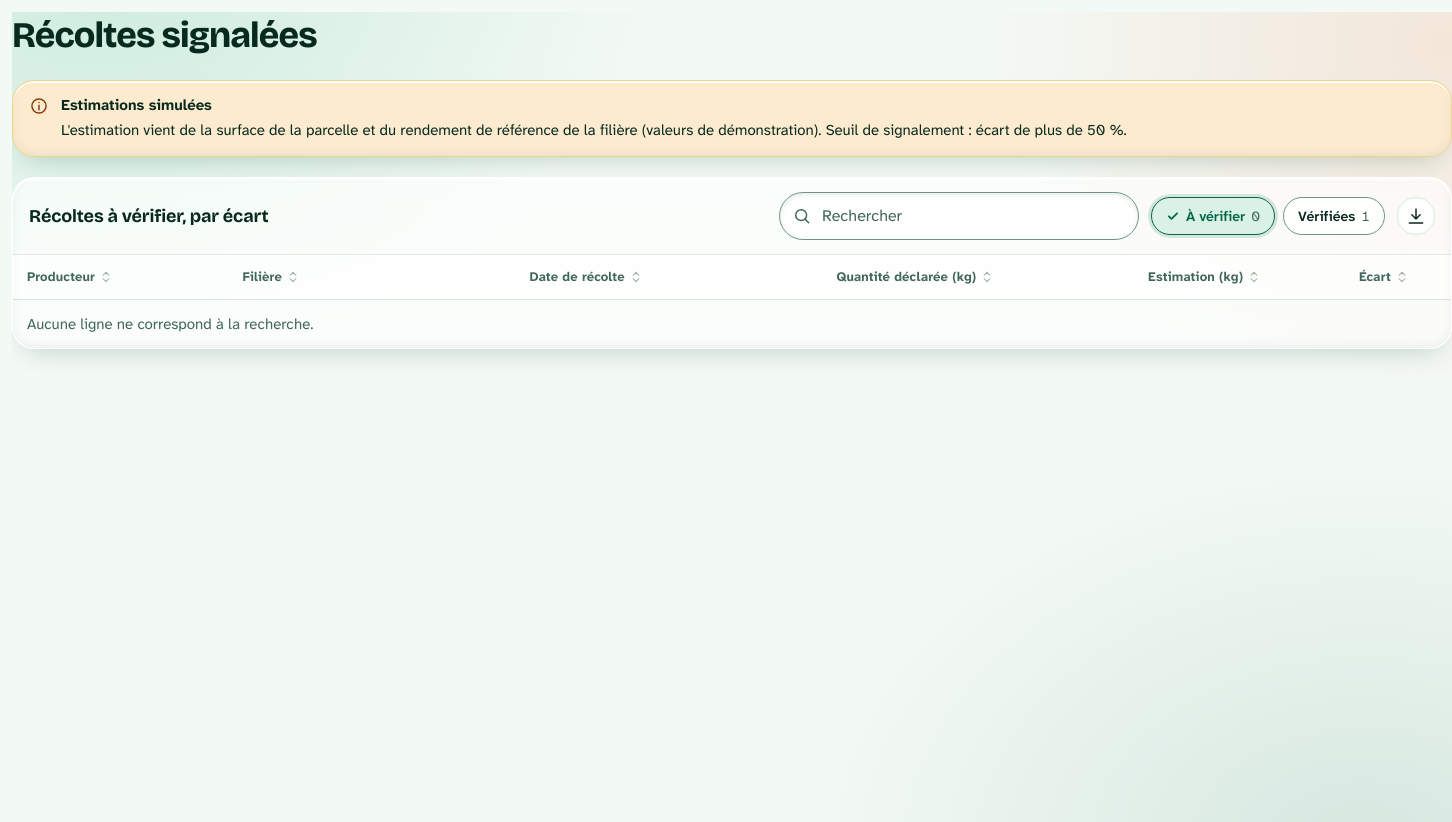
Récoltes signalées › plus rien à vérifier : l'onglet « Vérifiées » reste accessible
What coordinates should you click on to do the following:
click the button "Vérifiées 1"
I would click on:
 (1334, 216)
Its box is [1283,197,1385,235].
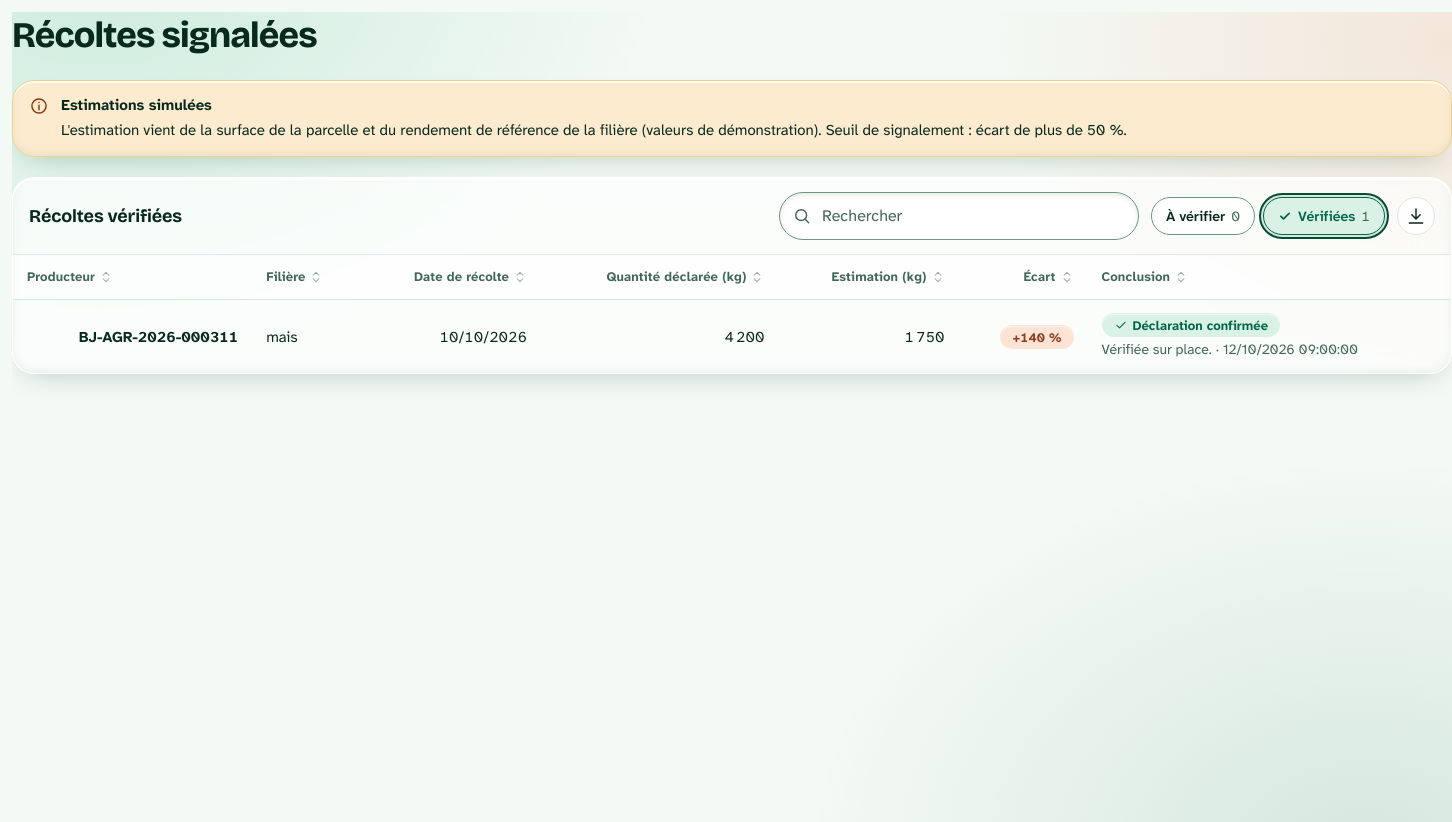
Check: the text "Vérifiée sur place. · 12/10/2026 09:00:00" is shown, box [1102,340,1358,358]
